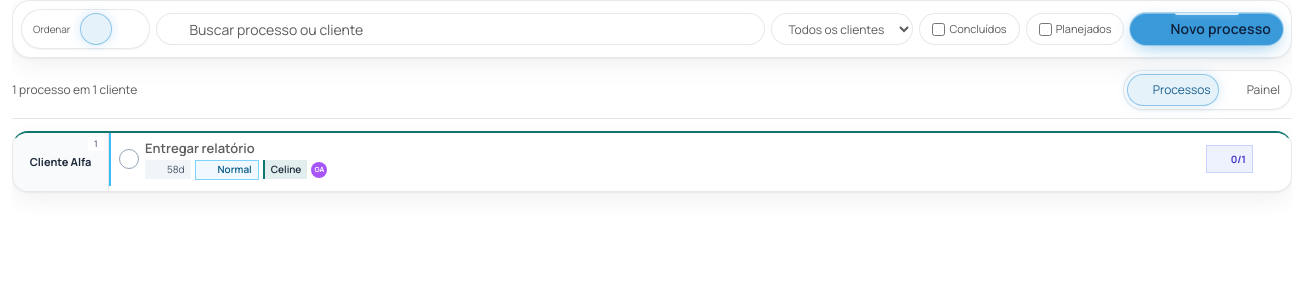
Test case: ProcessesTab › shows a process to the owner of an open nested step
Click the button named "Mostrar 1 etapa de Entregar relatório" at (1229, 160), box [1206, 146, 1253, 174]
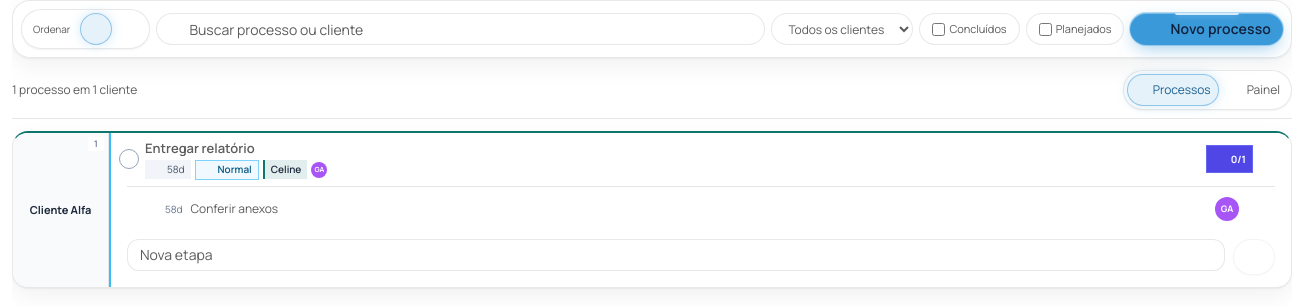
Expected: the text "Conferir anexos" is shown, [190, 200, 278, 217]
